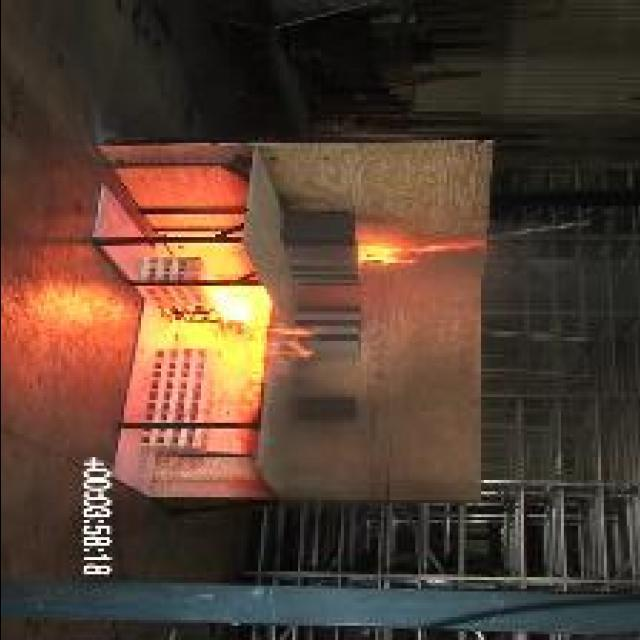Fire: (170, 288, 310, 402), (357, 240, 489, 266)
